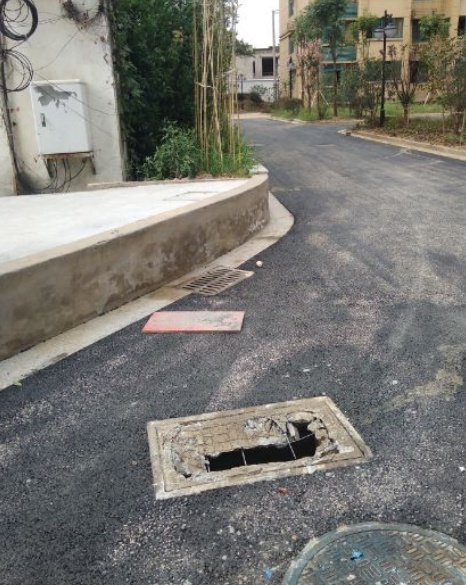broke: (146, 395, 373, 501)
good: (279, 523, 466, 583)
